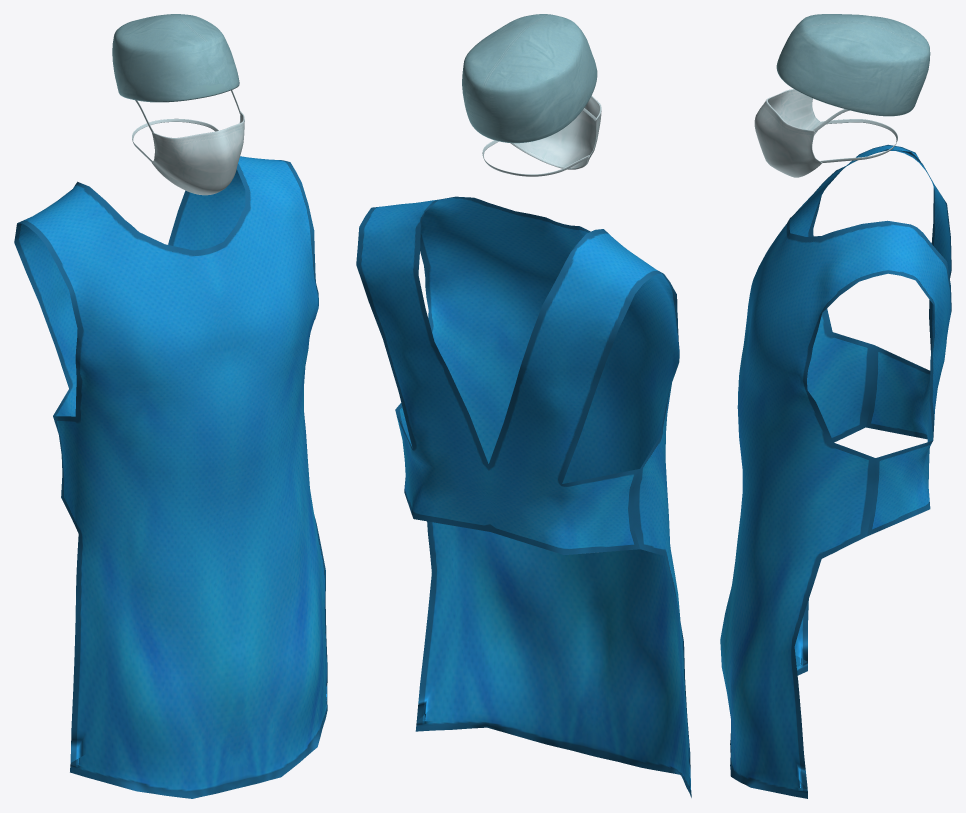
The model's file is X Ray 3.obj.
The picture shows the model from 3 angles, left to right: view 1: azimuth 30°, elevation 25°; view 2: azimuth 150°, elevation 25°; view 3: azimuth 270°, elevation 25°; orthographic projection. The views are drawn at different scales.
Visible parts, largest first — view 1: Protection, Mask002; view 2: Protection, Mask002; view 3: Protection, Mask002.
Part boxes in pixels (<box>): Protection: <box>14,156,327,798</box>; Mask002: <box>112,14,244,195</box>; Protection: <box>356,196,691,797</box>; Mask002: <box>462,14,601,176</box>; Protection: <box>720,144,951,798</box>; Mask002: <box>754,14,930,177</box>.
Size of what is drawn, in the model's own units: 17.02 by 44.89 by 12.81.
